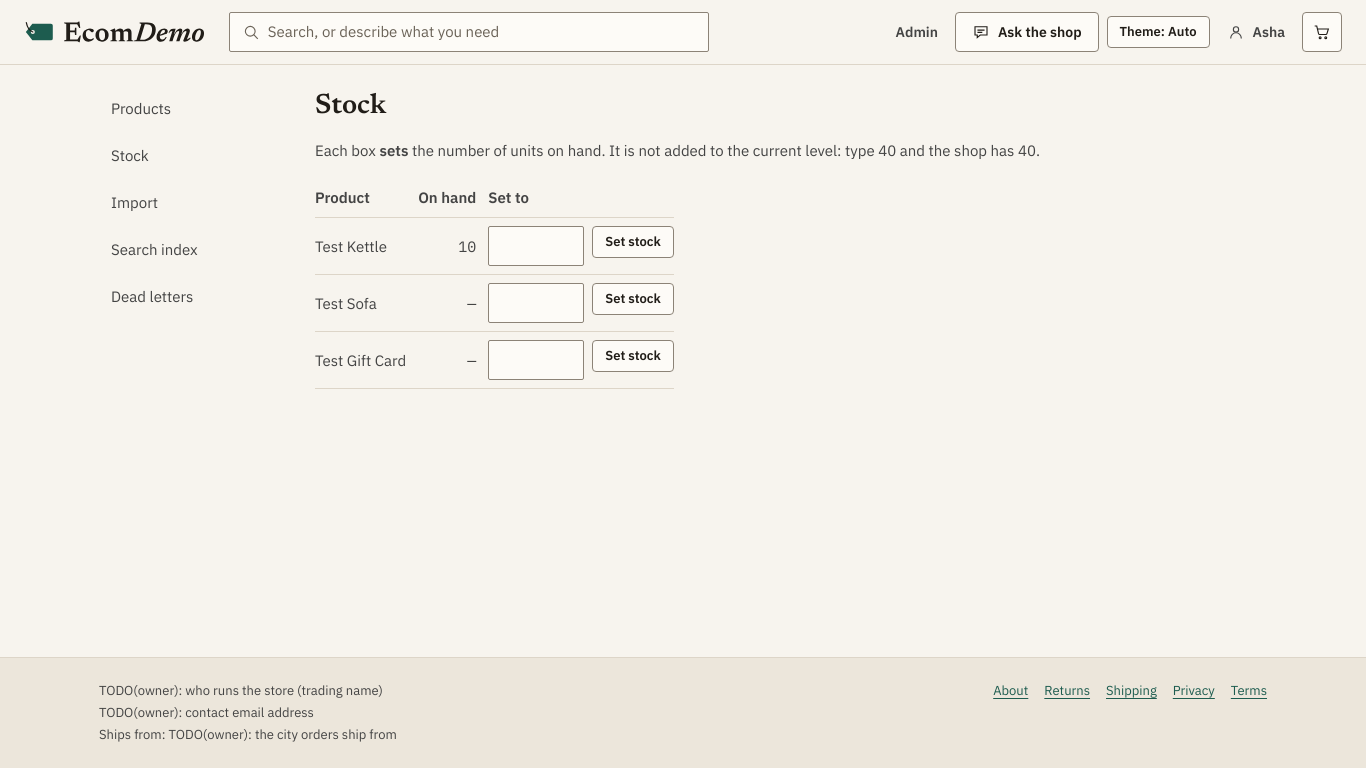
stock › sets a level: the typed number is the body, not a delta
The width and height of the screenshot is (1366, 768).
In the field named "New level for Test Kettle": [536, 246] box [501,227,571,265], type "40"
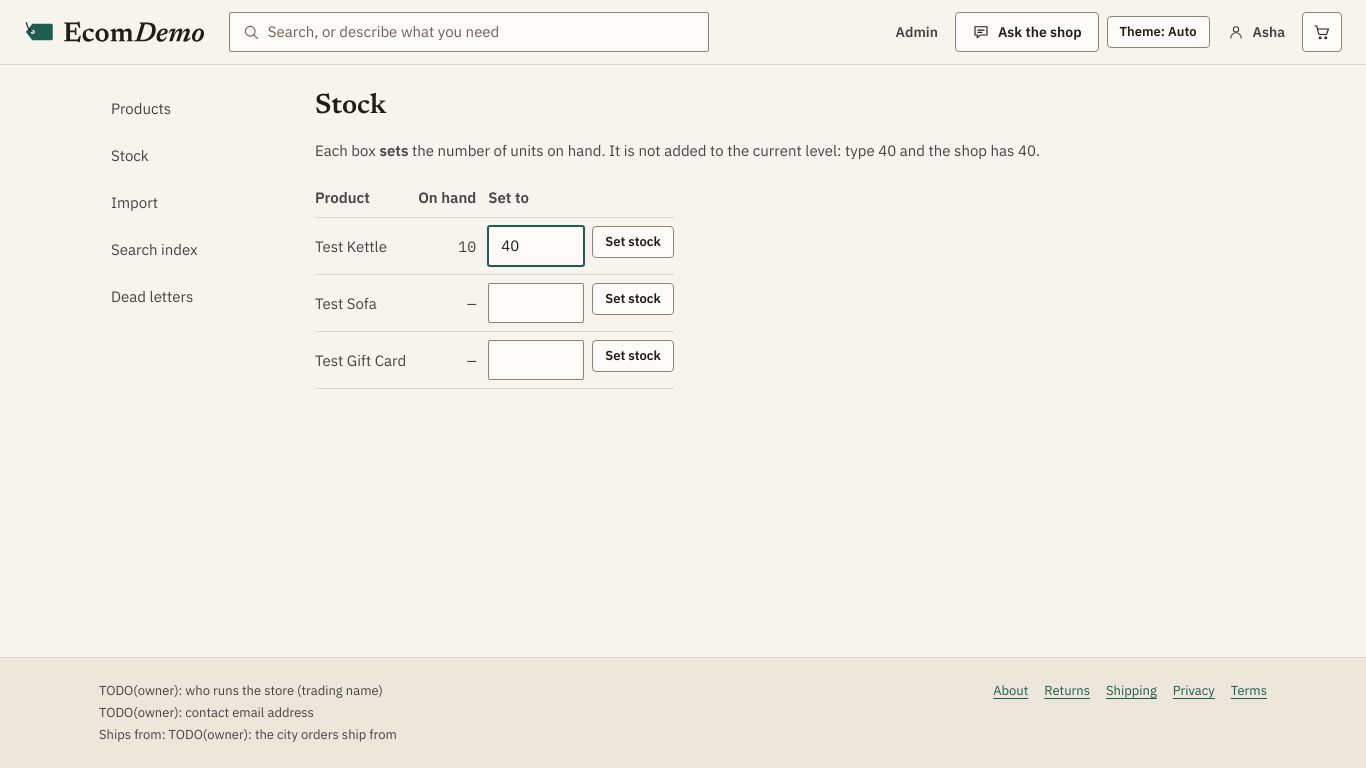
Click the button "Set stock" in the row of "Test Kettle": [633, 242] box [592,226,674,258]
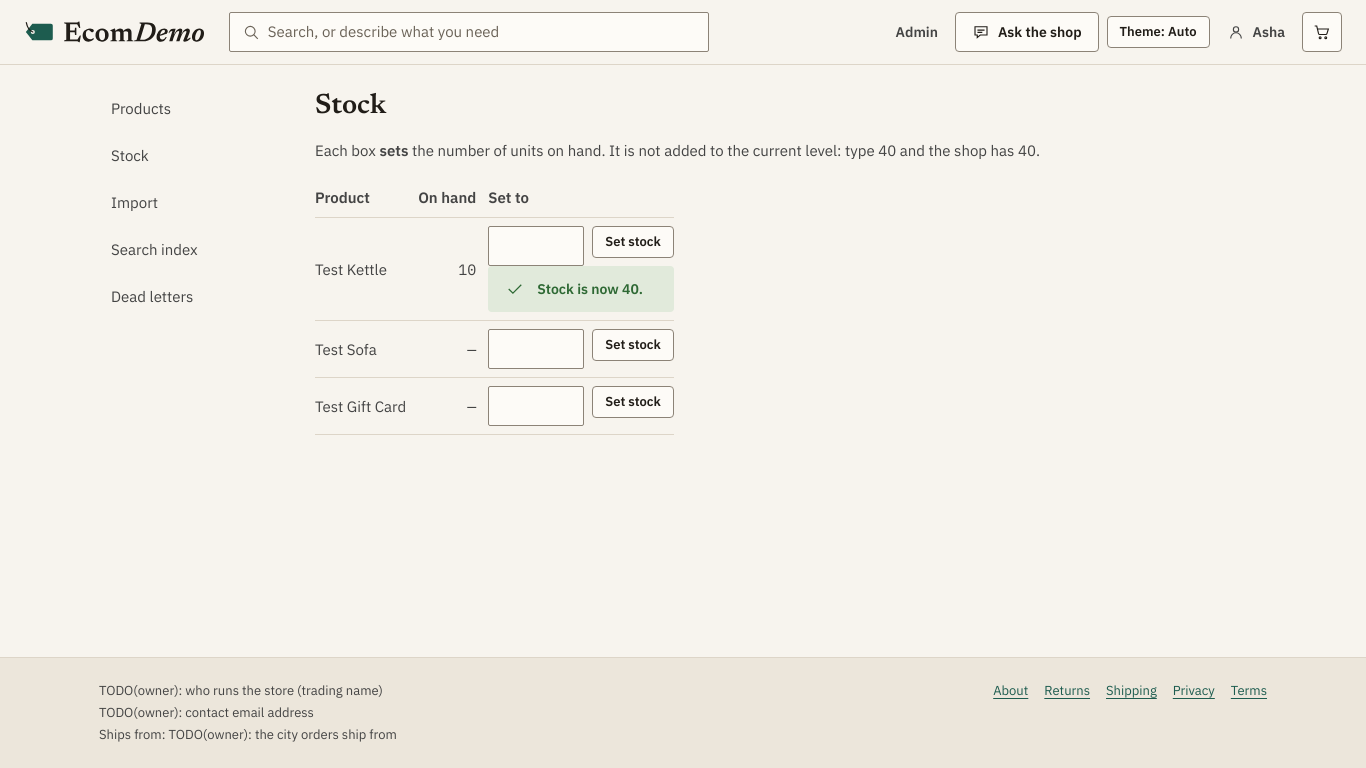
Expected: the text "Stock is now 40." is shown, [537,279,657,299]
